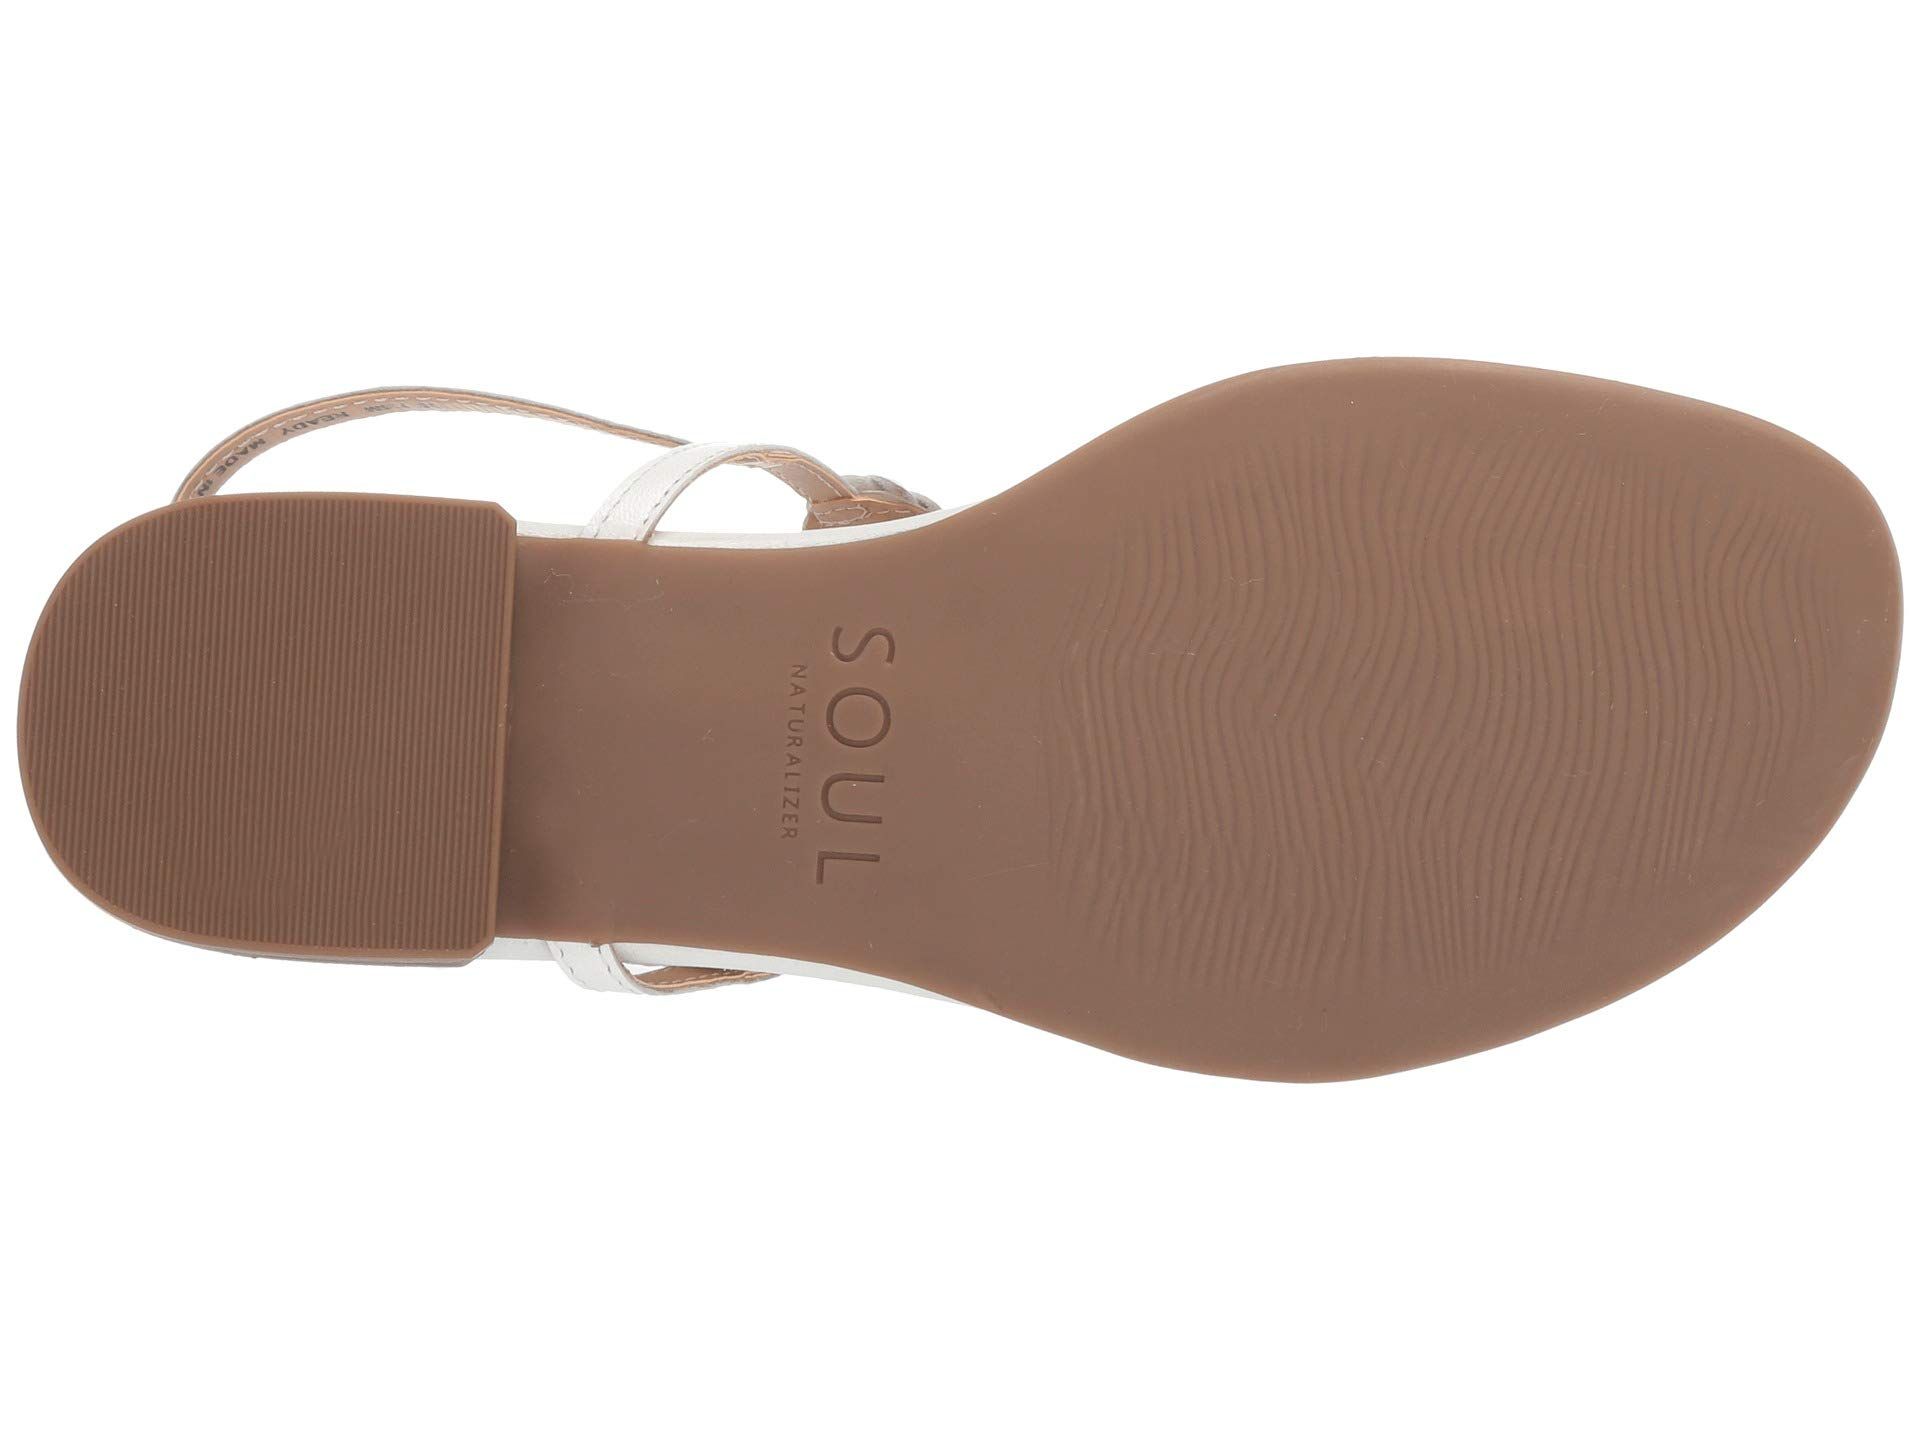circle: (692, 561, 1043, 951)
line: (1188, 498, 1663, 970), (94, 569, 426, 914)
text: (692, 561, 1043, 951)
